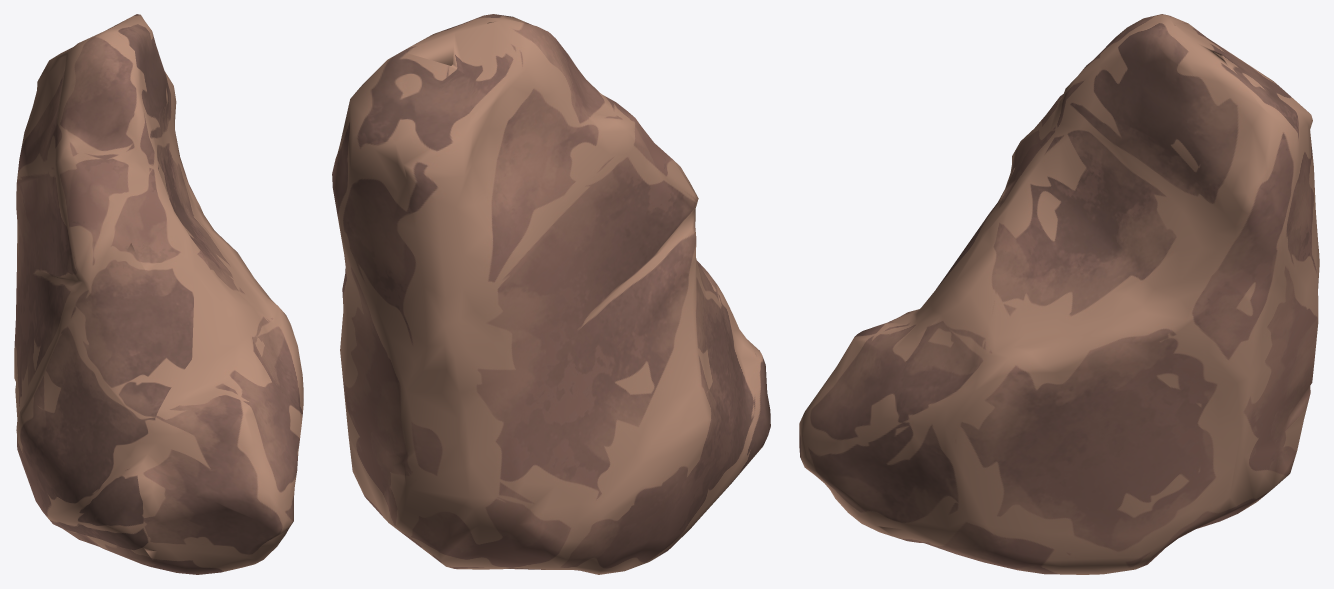
Rendered from roche5 texturée.FBX.
3 views of the same model, side by side, from view 1: azimuth 30°, elevation 25°; view 2: azimuth 150°, elevation 25°; view 3: azimuth 270°, elevation 25° (orthographic). The views are drawn at different scales.
Parts seen in each view (by area): view 1: Group45723; view 2: Group45723; view 3: Group45723.
Part boxes in pixels (x1=…): Group45723: x1=14, y1=14, x2=303, y2=574; Group45723: x1=332, y1=14, x2=770, y2=574; Group45723: x1=799, y1=14, x2=1319, y2=574.
Bounding box in the file's own units: 50.41 × 93.85 × 85.03.
Materials: 1 (1 with a texture image).
